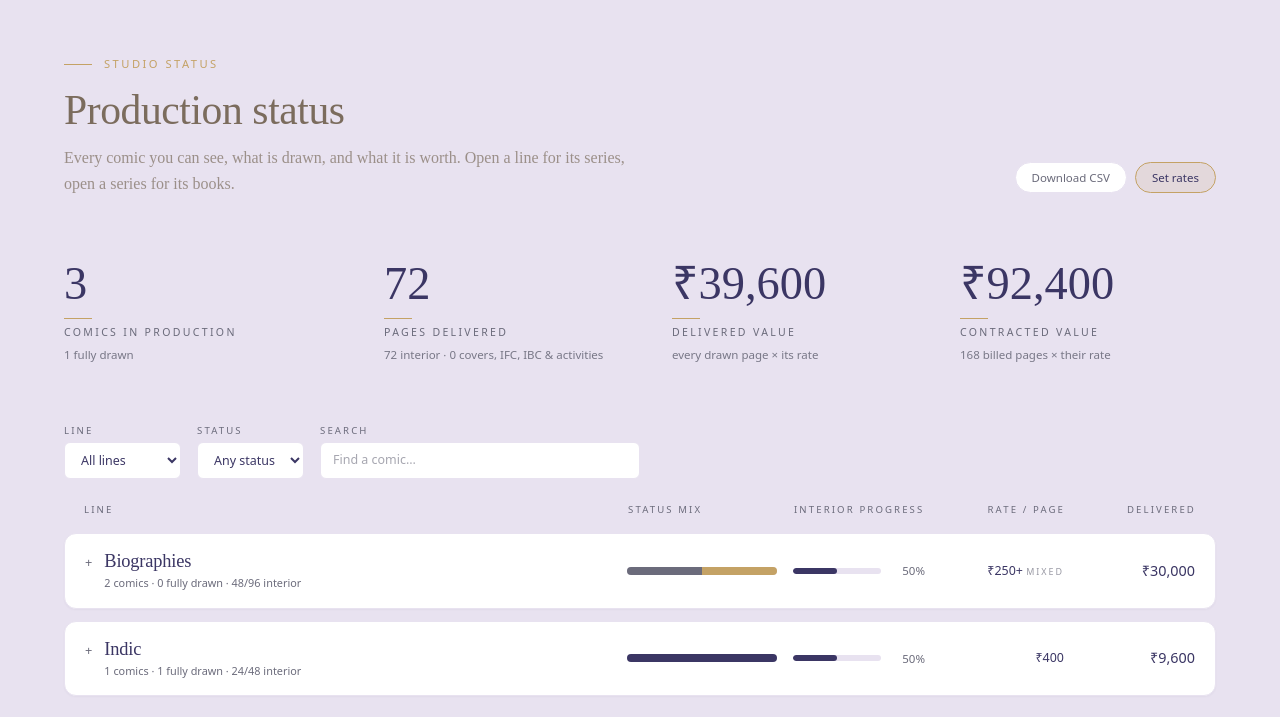
ProductionDashboard › filters to one line
Select "Indic" in the dropdown named "Filter by line" at (122,460), box [64, 442, 181, 479]
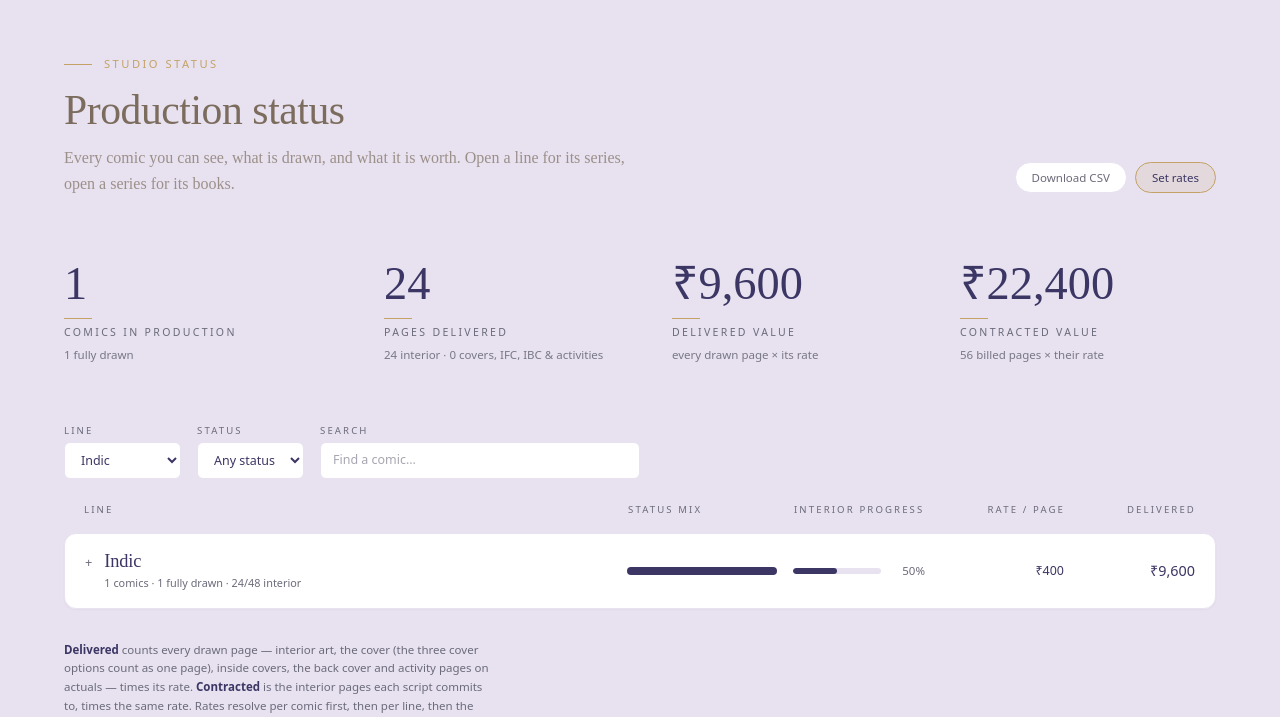
Expected: the heading "Indic" is shown, [104, 551, 141, 571]
Expected: the button "Biographies" is gone
